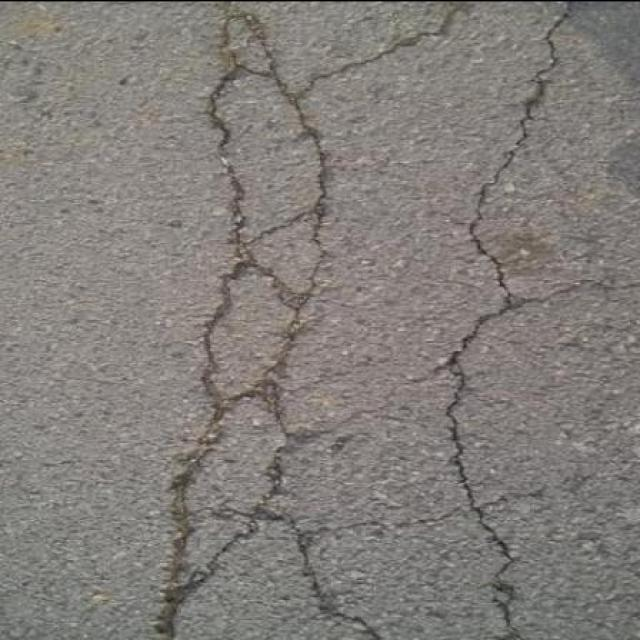Crack: (156, 9, 332, 640), (254, 321, 549, 640), (449, 0, 639, 359), (208, 8, 361, 242), (236, 422, 299, 539), (362, 2, 473, 59)
